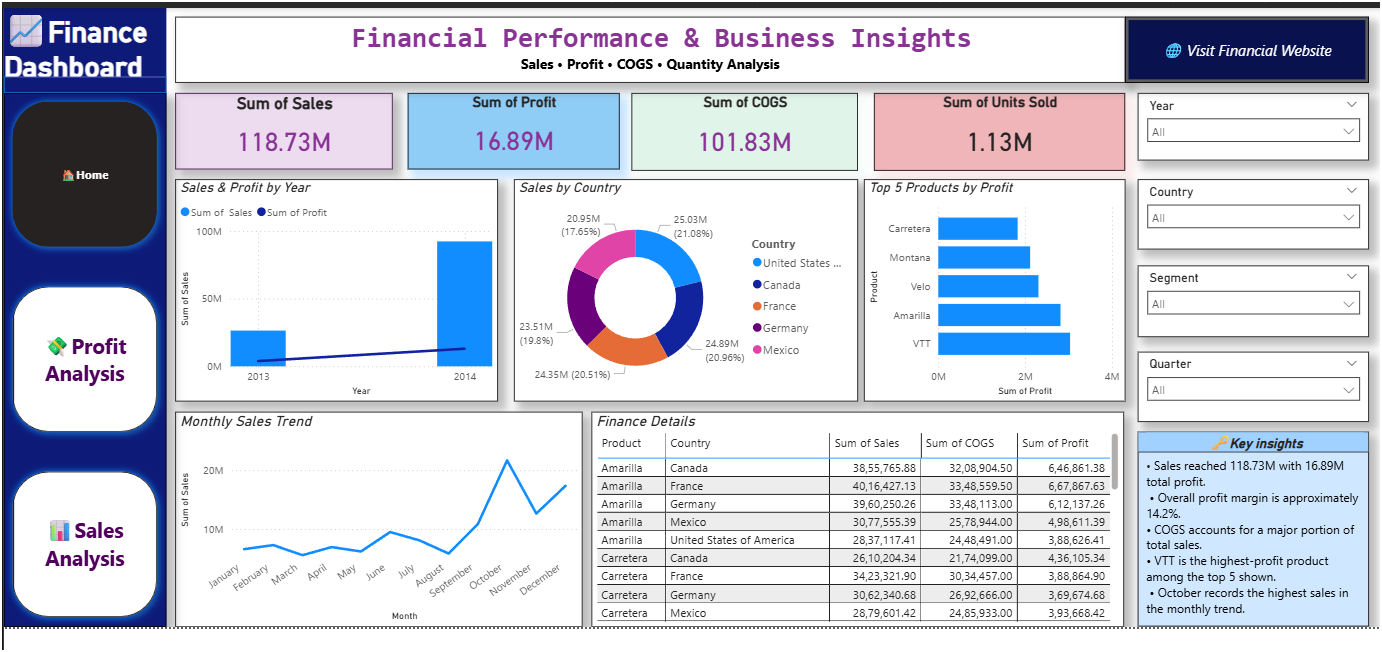

Layout of this report page (visuals, bound fields, positions):
{"tool":"powerbi","page":{"name":"🏠Home","canvas":[1600,720],"ordinal":0},"visuals":[{"type":"card","title":"Sum of Sales","fields":{"Values":["Sum(financials. Sales)"]},"box":[198.4,99.2,253.1,89],"z":0},{"type":"card","title":"Sum of Profit","fields":{"Values":["Sum(financials.Profit)"]},"box":[469.3,99.2,246.7,89],"z":1000},{"type":"card","title":"Sum of COGS","fields":{"Values":["Sum(financials.COGS)"]},"box":[729.7,98.8,263.1,90.1],"z":2000},{"type":"card","title":"Sum of Units Sold","fields":{"Values":["Sum(financials.Units Sold)"]},"box":[1011.6,98.8,292.2,90.1],"z":3000},{"type":"lineClusteredColumnComboChart","title":"Sales & Profit by Year","fields":{"Category":["financials.Date.Variation.Date Hierarchy.Year"],"Y":["Sum(financials. Sales)"],"Y2":["Sum(financials.Profit)"]},"box":[199.1,199.1,375,258.7],"z":4000},{"type":"donutChart","title":"Sales by Country","fields":{"Category":["financials.Country"],"Y":["Sum(financials. Sales)"]},"box":[593,199.1,399.7,258.7],"z":5000},{"type":"barChart","title":"Top 5 Products by Profit","fields":{"Category":["financials.Product"],"Y":["Sum(financials.Profit)"]},"box":[1000,199.1,303.8,258.7],"z":6000},{"type":"lineChart","title":"Monthly Sales Trend","fields":{"Category":["financials.Date.Variation.Date Hierarchy.Month"],"Y":["Sum(financials. Sales)"]},"box":[199.1,469.5,473.8,250],"z":7000},{"type":"tableEx","title":"Finance Details","fields":{"Values":["financials.Product","financials.Country","Sum(financials. Sales)","Sum(financials.COGS)","Sum(financials.Profit)"]},"box":[683.1,469.5,619.2,250],"z":8000},{"type":"slicer","fields":{"Values":["financials.Date.Variation.Date Hierarchy.Year"]},"box":[1318.3,98.8,268.9,78.5],"z":9000},{"type":"slicer","fields":{"Values":["financials.Country"]},"box":[1318.3,199.1,268.9,81.4],"z":10000},{"type":"slicer","fields":{"Values":["financials.Segment"]},"box":[1318.3,299.4,268.9,82.8],"z":11000},{"type":"slicer","fields":{"Values":["financials.Date.Variation.Date Hierarchy.Quarter"]},"box":[1318.3,399.7,268.9,81.4],"z":12000},{"type":"textbox","box":[199.1,10.2,1104.7,77],"z":13000},{"type":"pageNavigator","box":[0,98.8,189,620.6],"z":14000},{"type":"shape","title":"📈Finance Dashboard","box":[0,0,189,98.8],"z":15000},{"type":"actionButton","box":[1303.8,10.2,283.4,77],"z":15001},{"type":"textbox","title":"🗝️Key insights","box":[1318.3,492.7,268.9,226.7],"z":15002}]}

Visuals, with their boxes on the page's 1600x720 design canvas (x1, y1, x2, y2). These are canvas units, not pixel positions in the 1382x652 screenshot, which may show the page scaled, cropped or inside an application window:
"Sum of Sales" card: crop(198, 99, 452, 188)
"Sum of Profit" card: crop(469, 99, 716, 188)
"Sum of COGS" card: crop(730, 99, 993, 189)
"Sum of Units Sold" card: crop(1012, 99, 1304, 189)
"Sales & Profit by Year" lineClusteredColumnComboChart: crop(199, 199, 574, 458)
"Sales by Country" donutChart: crop(593, 199, 993, 458)
"Top 5 Products by Profit" barChart: crop(1000, 199, 1304, 458)
"Monthly Sales Trend" lineChart: crop(199, 470, 673, 720)
"Finance Details" tableEx: crop(683, 470, 1302, 720)
slicer - financials.Date.Variation.Date Hierarchy.Year: crop(1318, 99, 1587, 177)
slicer - financials.Country: crop(1318, 199, 1587, 280)
slicer - financials.Segment: crop(1318, 299, 1587, 382)
slicer - financials.Date.Variation.Date Hierarchy.Quarter: crop(1318, 400, 1587, 481)
textbox: crop(199, 10, 1304, 87)
pageNavigator: crop(0, 99, 189, 719)
"📈Finance Dashboard" shape: crop(0, 0, 189, 99)
actionButton: crop(1304, 10, 1587, 87)
"🗝️Key insights" textbox: crop(1318, 493, 1587, 719)
